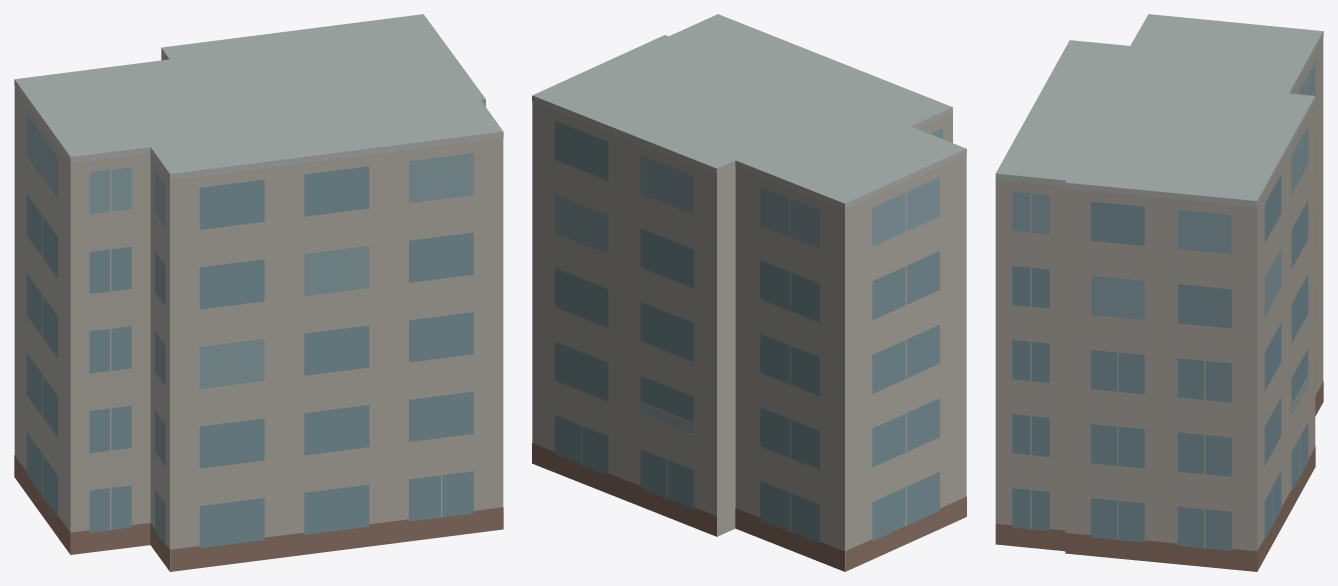
Rendered from survey-upis-32529658.glb.
3 renders of one model, left to right at view 1: azimuth 30°, elevation 25°; view 2: azimuth 150°, elevation 25°; view 3: azimuth 270°, elevation 25°, orthographic. The views are drawn at different scales.
Parts seen in each view (by area): view 1: survey-upis-32529658.tmp; view 2: survey-upis-32529658.tmp; view 3: survey-upis-32529658.tmp.
Boxes of the visible parts, box(x1,y1,x2,y2) form: survey-upis-32529658.tmp: box(14, 14, 503, 571); survey-upis-32529658.tmp: box(532, 14, 966, 571); survey-upis-32529658.tmp: box(995, 14, 1323, 571).
Bounding box in the file's own units: 16.51 × 15.25 × 12.23.
